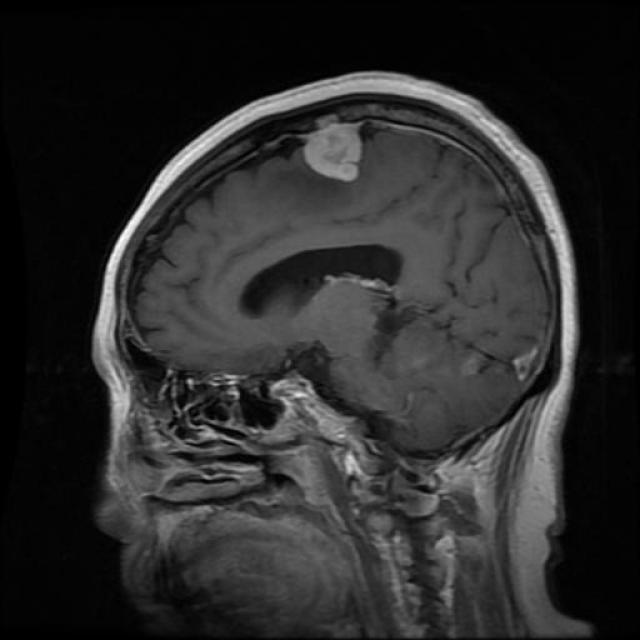Brain-Tumor: (286, 108, 389, 191)
